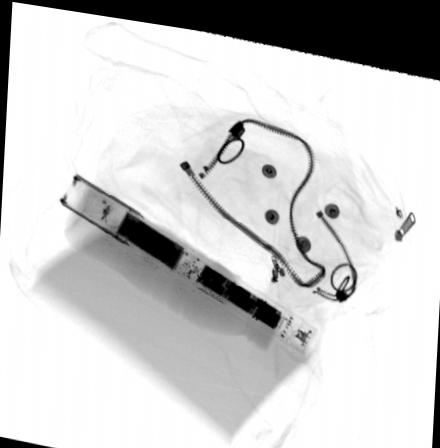Baton: (56, 168, 318, 349)
